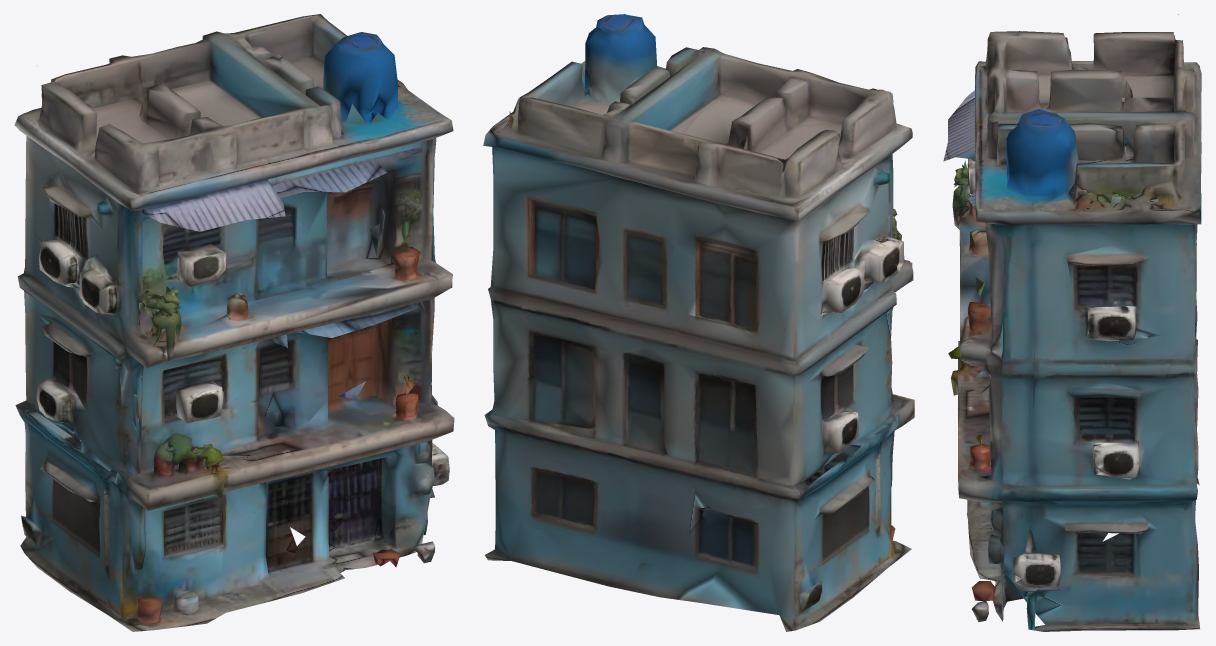
File: apartment.glb
The picture shows the model from 3 angles, left to right: view 1: azimuth 30°, elevation 25°; view 2: azimuth 150°, elevation 25°; view 3: azimuth 270°, elevation 25°; orthographic projection. The views are drawn at different scales.
Parts seen in each view (by area): view 1: geometry_0; view 2: geometry_0; view 3: geometry_0.
Part boxes in pixels (box(x1,y1,x2,y2)): geometry_0: box(14, 14, 454, 631); geometry_0: box(483, 14, 914, 631); geometry_0: box(943, 14, 1201, 631).
Size of the model in its own units: 0.7236 by 1 by 0.4798.
Materials: 1 (1 with a texture image).
